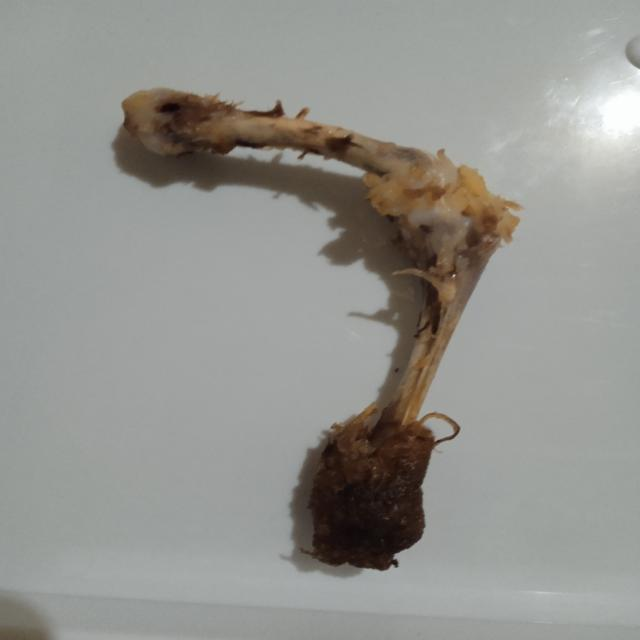bone: (116, 79, 528, 576)
